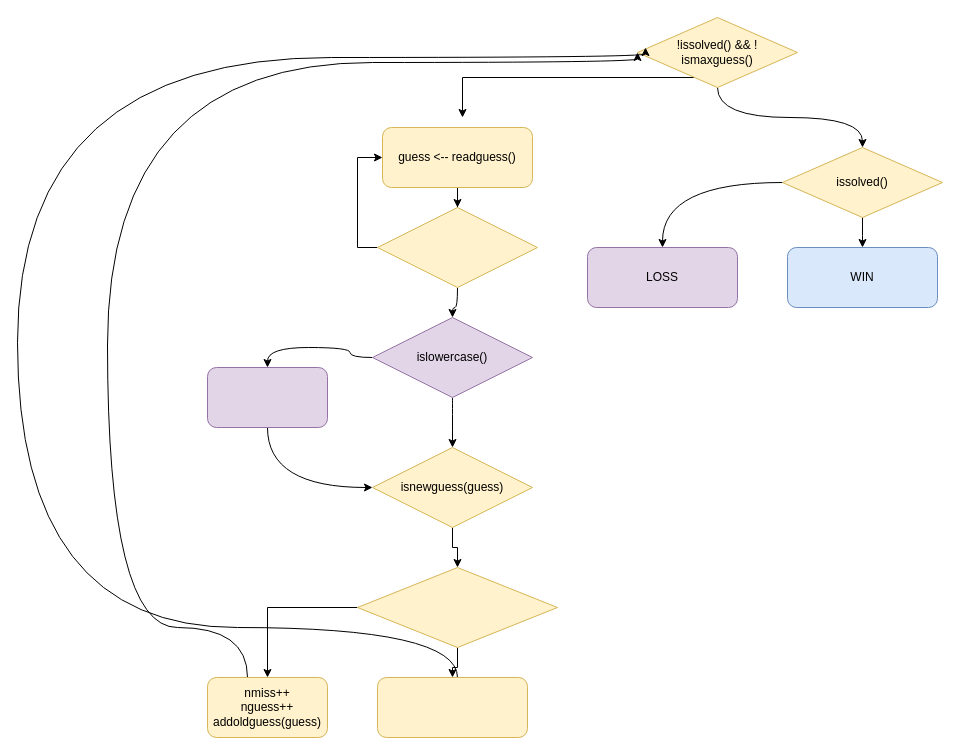
The diagram is 960 pixels wide and 755 high, and some of its shapes have lost their labels. The shapes that lost their labels are listed below. From the top down, each one's centre as x and y in pixels, then its label:
At point (457, 247): "isvalidguess(guess)".
At point (267, 397): "tolower(guess)".
At point (457, 607): "isguessinword(guess)".
At point (452, 707): "nmiss++ nguess++ addoldguess(guess) updatewordsofar(guess)".
